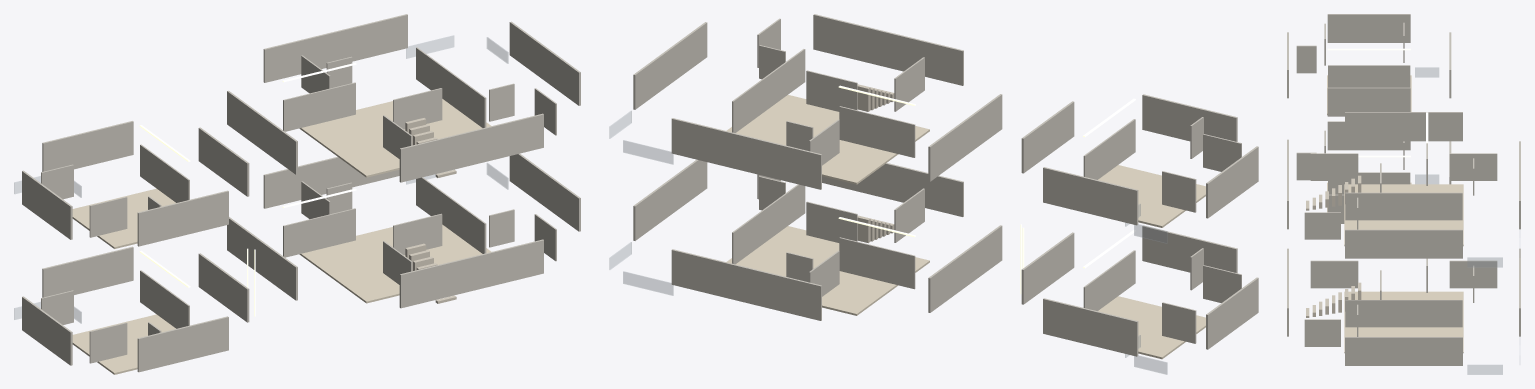
The model's file is earth-villa.glb.
3 renders of one model, left to right at view 1: azimuth 30°, elevation 25°; view 2: azimuth 150°, elevation 25°; view 3: azimuth 270°, elevation 25°, orthographic. The views are drawn at different scales.
Visible parts, largest first — view 1: Cube.013, Cube.050, Cube.049, Cube.012, Cube.052, Cube.001, Cube.038, Cube.015, Cube.003, Cube.040, Cube.051, Cube.053 (+31 smaller); view 2: Cube.052, Cube.015, Cube.050, Cube.012, Cube.049, Cube.003, Cube.040, Cube.013, Cube.001, Cube.038, Cube.016, Cube.051 (+31 smaller); view 3: Cube.051, Cube.053, Cube.014, Cube.059, Cube.022, Cube.041, Cube.049, Cube.012, Cube.039, Cube.042, Cube.021, Cube.018 (+14 smaller).
Boxes of the visible parts, x1=… form: Cube.013: x1=399, y1=239, x2=543, y2=308; Cube.050: x1=399, y1=113, x2=543, y2=182; Cube.049: x1=299, y1=99, x2=491, y2=177; Cube.012: x1=299, y1=224, x2=491, y2=303; Cube.052: x1=263, y1=14, x2=407, y2=82; Cube.001: x1=137, y1=316, x2=228, y2=372; Cube.038: x1=137, y1=190, x2=228, y2=246; Cube.015: x1=263, y1=156, x2=399, y2=208; Cube.003: x1=42, y1=246, x2=133, y2=297; Cube.040: x1=42, y1=121, x2=133, y2=171; Cube.051: x1=509, y1=21, x2=580, y2=105; Cube.053: x1=227, y1=90, x2=297, y2=174; Cube.052: x1=671, y1=118, x2=821, y2=189; Cube.015: x1=671, y1=249, x2=821, y2=320; Cube.050: x1=813, y1=14, x2=963, y2=85; Cube.012: x1=726, y1=226, x2=929, y2=315; Cube.049: x1=726, y1=95, x2=929, y2=184; Cube.003: x1=1043, y1=298, x2=1138, y2=356; Cube.040: x1=1043, y1=167, x2=1138, y2=225; Cube.013: x1=822, y1=163, x2=963, y2=216; Cube.001: x1=1142, y1=225, x2=1237, y2=273; Cube.038: x1=1142, y1=94, x2=1237, y2=141; Cube.016: x1=928, y1=225, x2=1002, y2=312; Cube.051: x1=633, y1=22, x2=707, y2=109; Cube.051: x1=1345, y1=229, x2=1462, y2=258; Cube.053: x1=1345, y1=112, x2=1462, y2=141; Cube.014: x1=1345, y1=337, x2=1462, y2=365; Cube.059: x1=1345, y1=192, x2=1462, y2=220; Cube.022: x1=1345, y1=300, x2=1462, y2=327; Cube.041: x1=1327, y1=14, x2=1410, y2=42; Cube.049: x1=1344, y1=184, x2=1463, y2=246; Cube.012: x1=1344, y1=291, x2=1463, y2=353; Cube.039: x1=1327, y1=87, x2=1410, y2=116; Cube.042: x1=1328, y1=65, x2=1410, y2=87; Cube.021: x1=1310, y1=260, x2=1358, y2=288; Cube.018: x1=1449, y1=260, x2=1497, y2=288.
Size of the model in its own units: 22.08 by 7.92 by 10.08.
